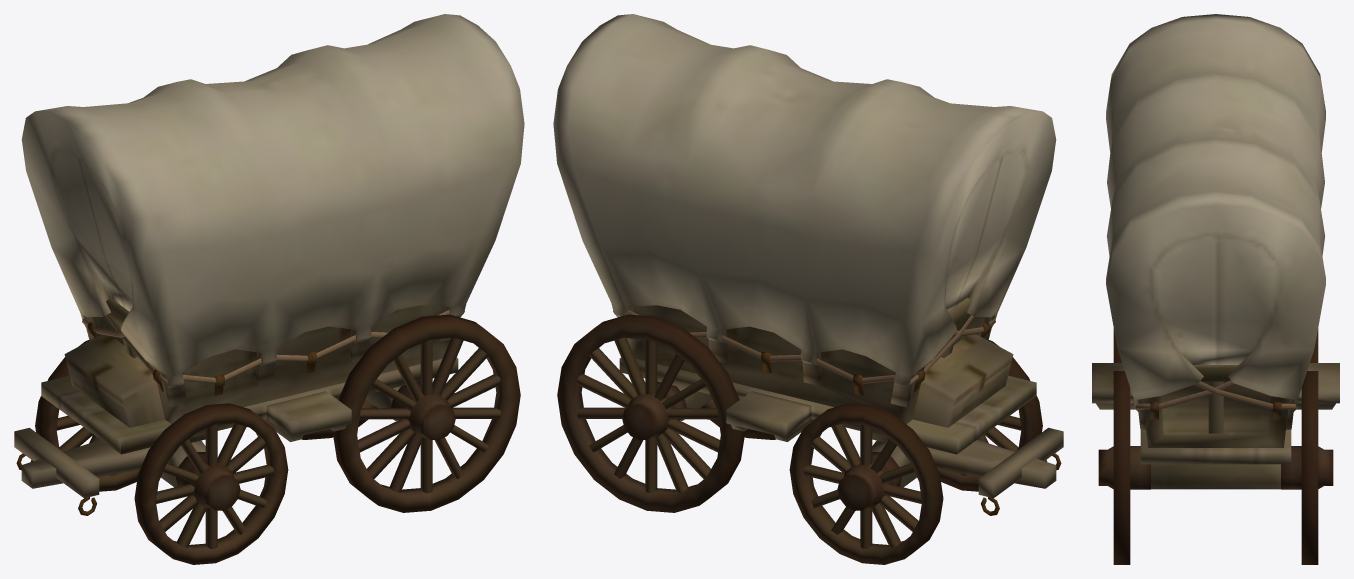
3 views of the same model, side by side, from view 1: azimuth 30°, elevation 25°; view 2: azimuth 150°, elevation 25°; view 3: azimuth 270°, elevation 25° (orthographic). The views are drawn at different scales.
Bounding box in the file's own units: 19.39 × 17.53 × 9.78.
1 material, 1 textured.
